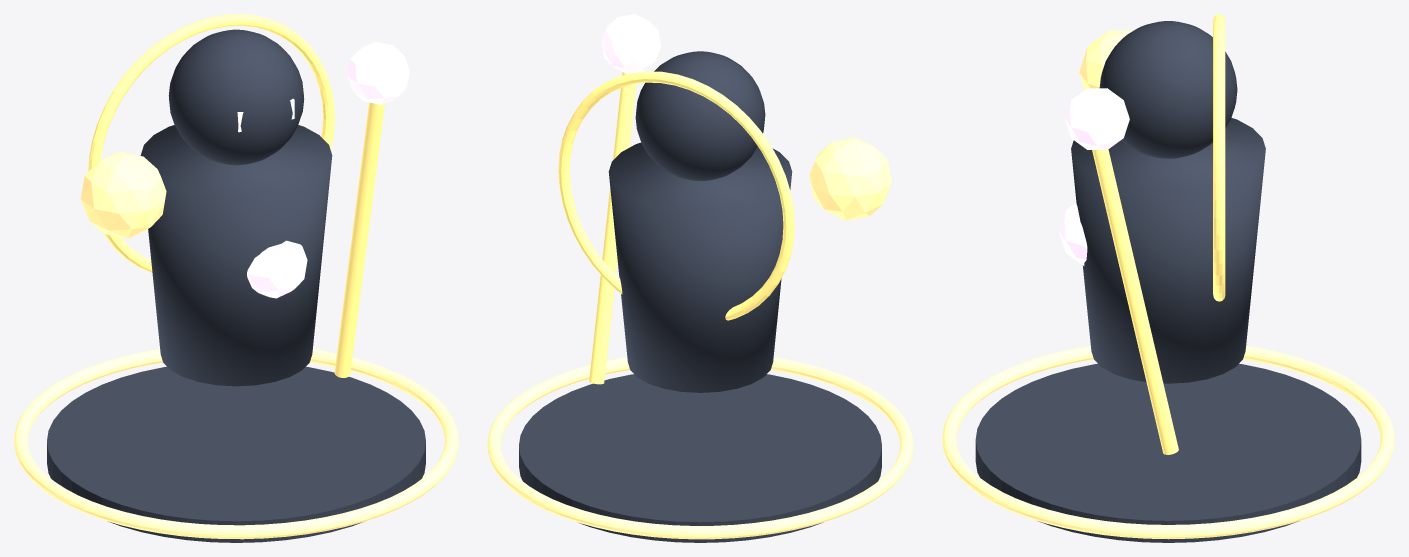
File: pixel-neko.glb
3 views of the same model, side by side, from view 1: azimuth 30°, elevation 25°; view 2: azimuth 150°, elevation 25°; view 3: azimuth 270°, elevation 25° (orthographic). The views are drawn at different scales.
Visible parts, largest first — view 1: AbilityPedestal, AgentTorso, AgentHead, AbilityAuraRing, Pet_PIXEL-NEKO, SovereignHalo, SignatureWeapon, WeaponApex, AgentCore; view 2: AbilityPedestal, AgentTorso, AgentHead, AbilityAuraRing, SovereignHalo, Pet_PIXEL-NEKO, SignatureWeapon, WeaponApex; view 3: AbilityPedestal, AgentTorso, AgentHead, AbilityAuraRing, SignatureWeapon, SovereignHalo, WeaponApex, Pet_PIXEL-NEKO, AgentCore.
Part boxes in pixels (left/top/right/bottom): AbilityPedestal: left=47, top=366, right=425, bottom=542; AgentTorso: left=140, top=125, right=332, bottom=386; AgentHead: left=168, top=29, right=304, bottom=165; AbilityAuraRing: left=14, top=349, right=458, bottom=539; Pet_PIXEL-NEKO: left=80, top=152, right=166, bottom=238; SovereignHalo: left=88, top=14, right=334, bottom=272; SignatureWeapon: left=334, top=102, right=384, bottom=377; WeaponApex: left=347, top=42, right=409, bottom=104; AgentCore: left=247, top=240, right=307, bottom=298; AbilityPedestal: left=519, top=374, right=881, bottom=542; AgentTorso: left=608, top=142, right=792, bottom=392; AgentHead: left=635, top=51, right=765, bottom=181; AbilityAuraRing: left=487, top=357, right=913, bottom=539; SovereignHalo: left=558, top=71, right=794, bottom=320; Pet_PIXEL-NEKO: left=809, top=137, right=891, bottom=220; SignatureWeapon: left=589, top=72, right=636, bottom=384; WeaponApex: left=601, top=14, right=660, bottom=74; AbilityPedestal: left=975, top=363, right=1361, bottom=542; AgentTorso: left=1071, top=118, right=1265, bottom=383; AgentHead: left=1099, top=21, right=1237, bottom=158; AbilityAuraRing: left=942, top=345, right=1394, bottom=539; SignatureWeapon: left=1092, top=149, right=1178, bottom=454; SovereignHalo: left=1213, top=14, right=1225, bottom=301; WeaponApex: left=1065, top=88, right=1129, bottom=149; Pet_PIXEL-NEKO: left=1079, top=30, right=1133, bottom=89; AgentCore: left=1059, top=203, right=1087, bottom=265.
Bounding box in the file's own units: 2.23 × 2.36 × 2.23.
